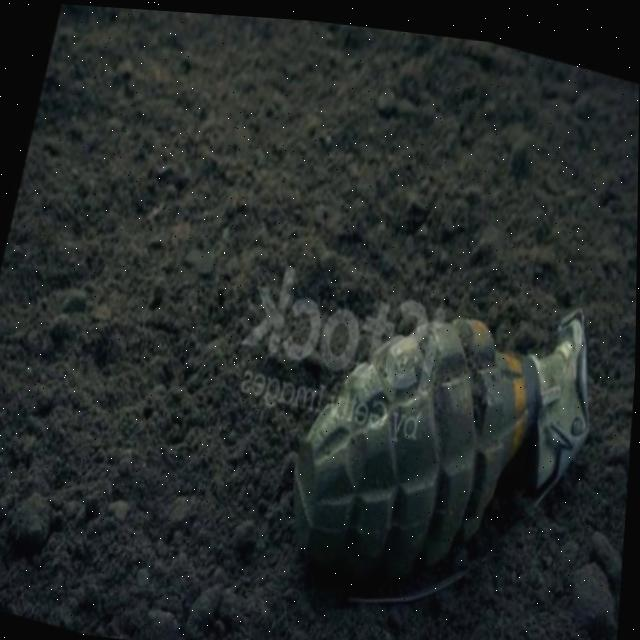grenade: (269, 236, 616, 640)
